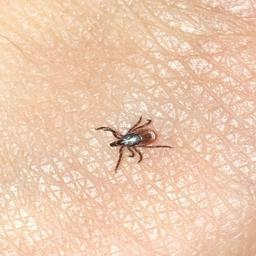Ixodes scapularis: (95, 117, 171, 174)
